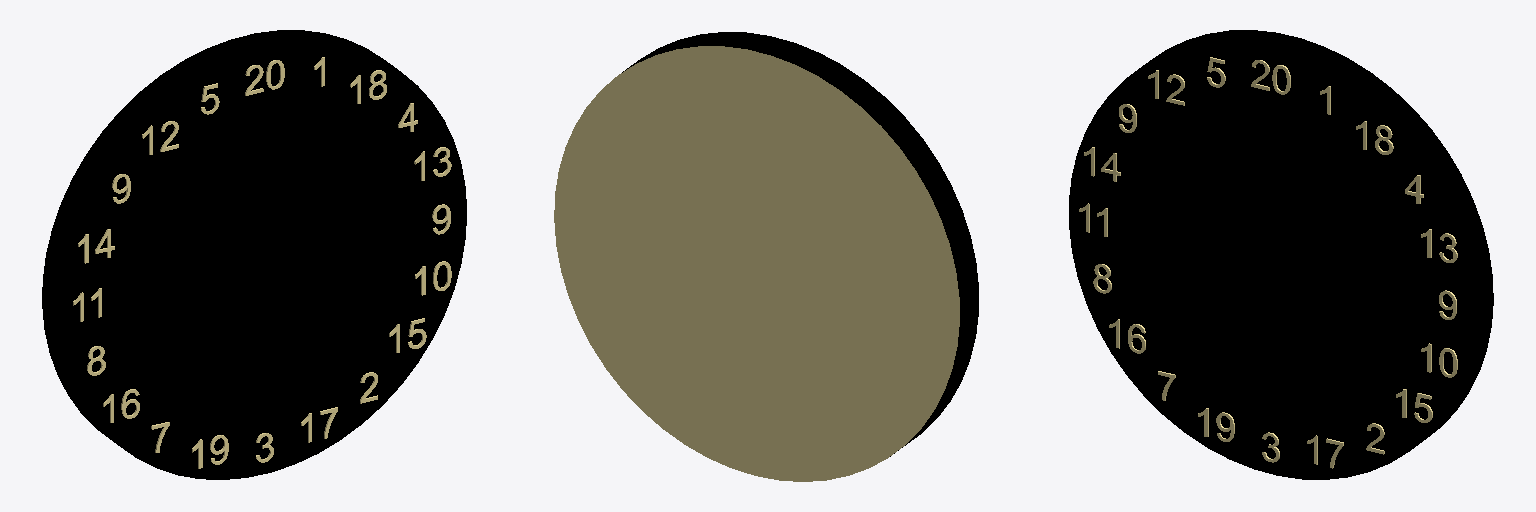
File: DartBoard.obj
3 renders of one model, left to right at view 1: azimuth 30°, elevation 25°; view 2: azimuth 150°, elevation 25°; view 3: azimuth 330°, elevation 25°, orthographic.
Visible parts, largest first — view 1: Body1; view 2: Body1; view 3: Body1.
Boxes of the visible parts, x1=… form: Body1: x1=42, y1=30, x2=466, y2=479; Body1: x1=554, y1=32, x2=978, y2=481; Body1: x1=1069, y1=30, x2=1493, y2=479.
Bounding box in the file's own units: 0.4508 × 0.4509 × 0.0421.